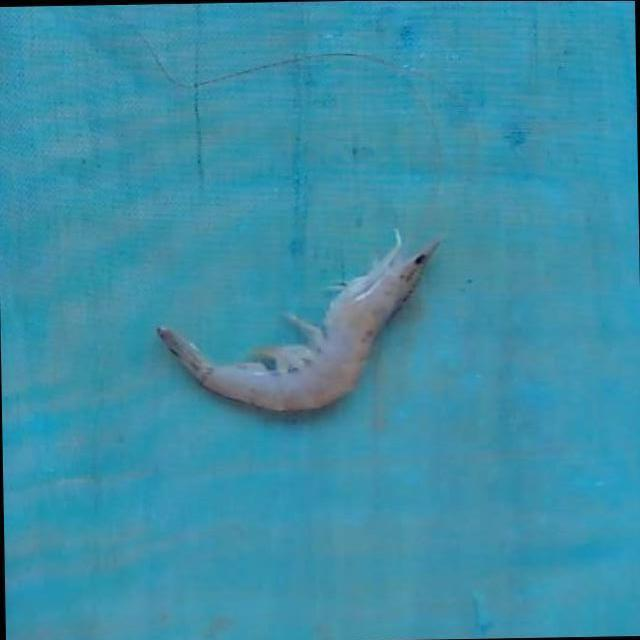shrimp: (157, 239, 439, 409)
